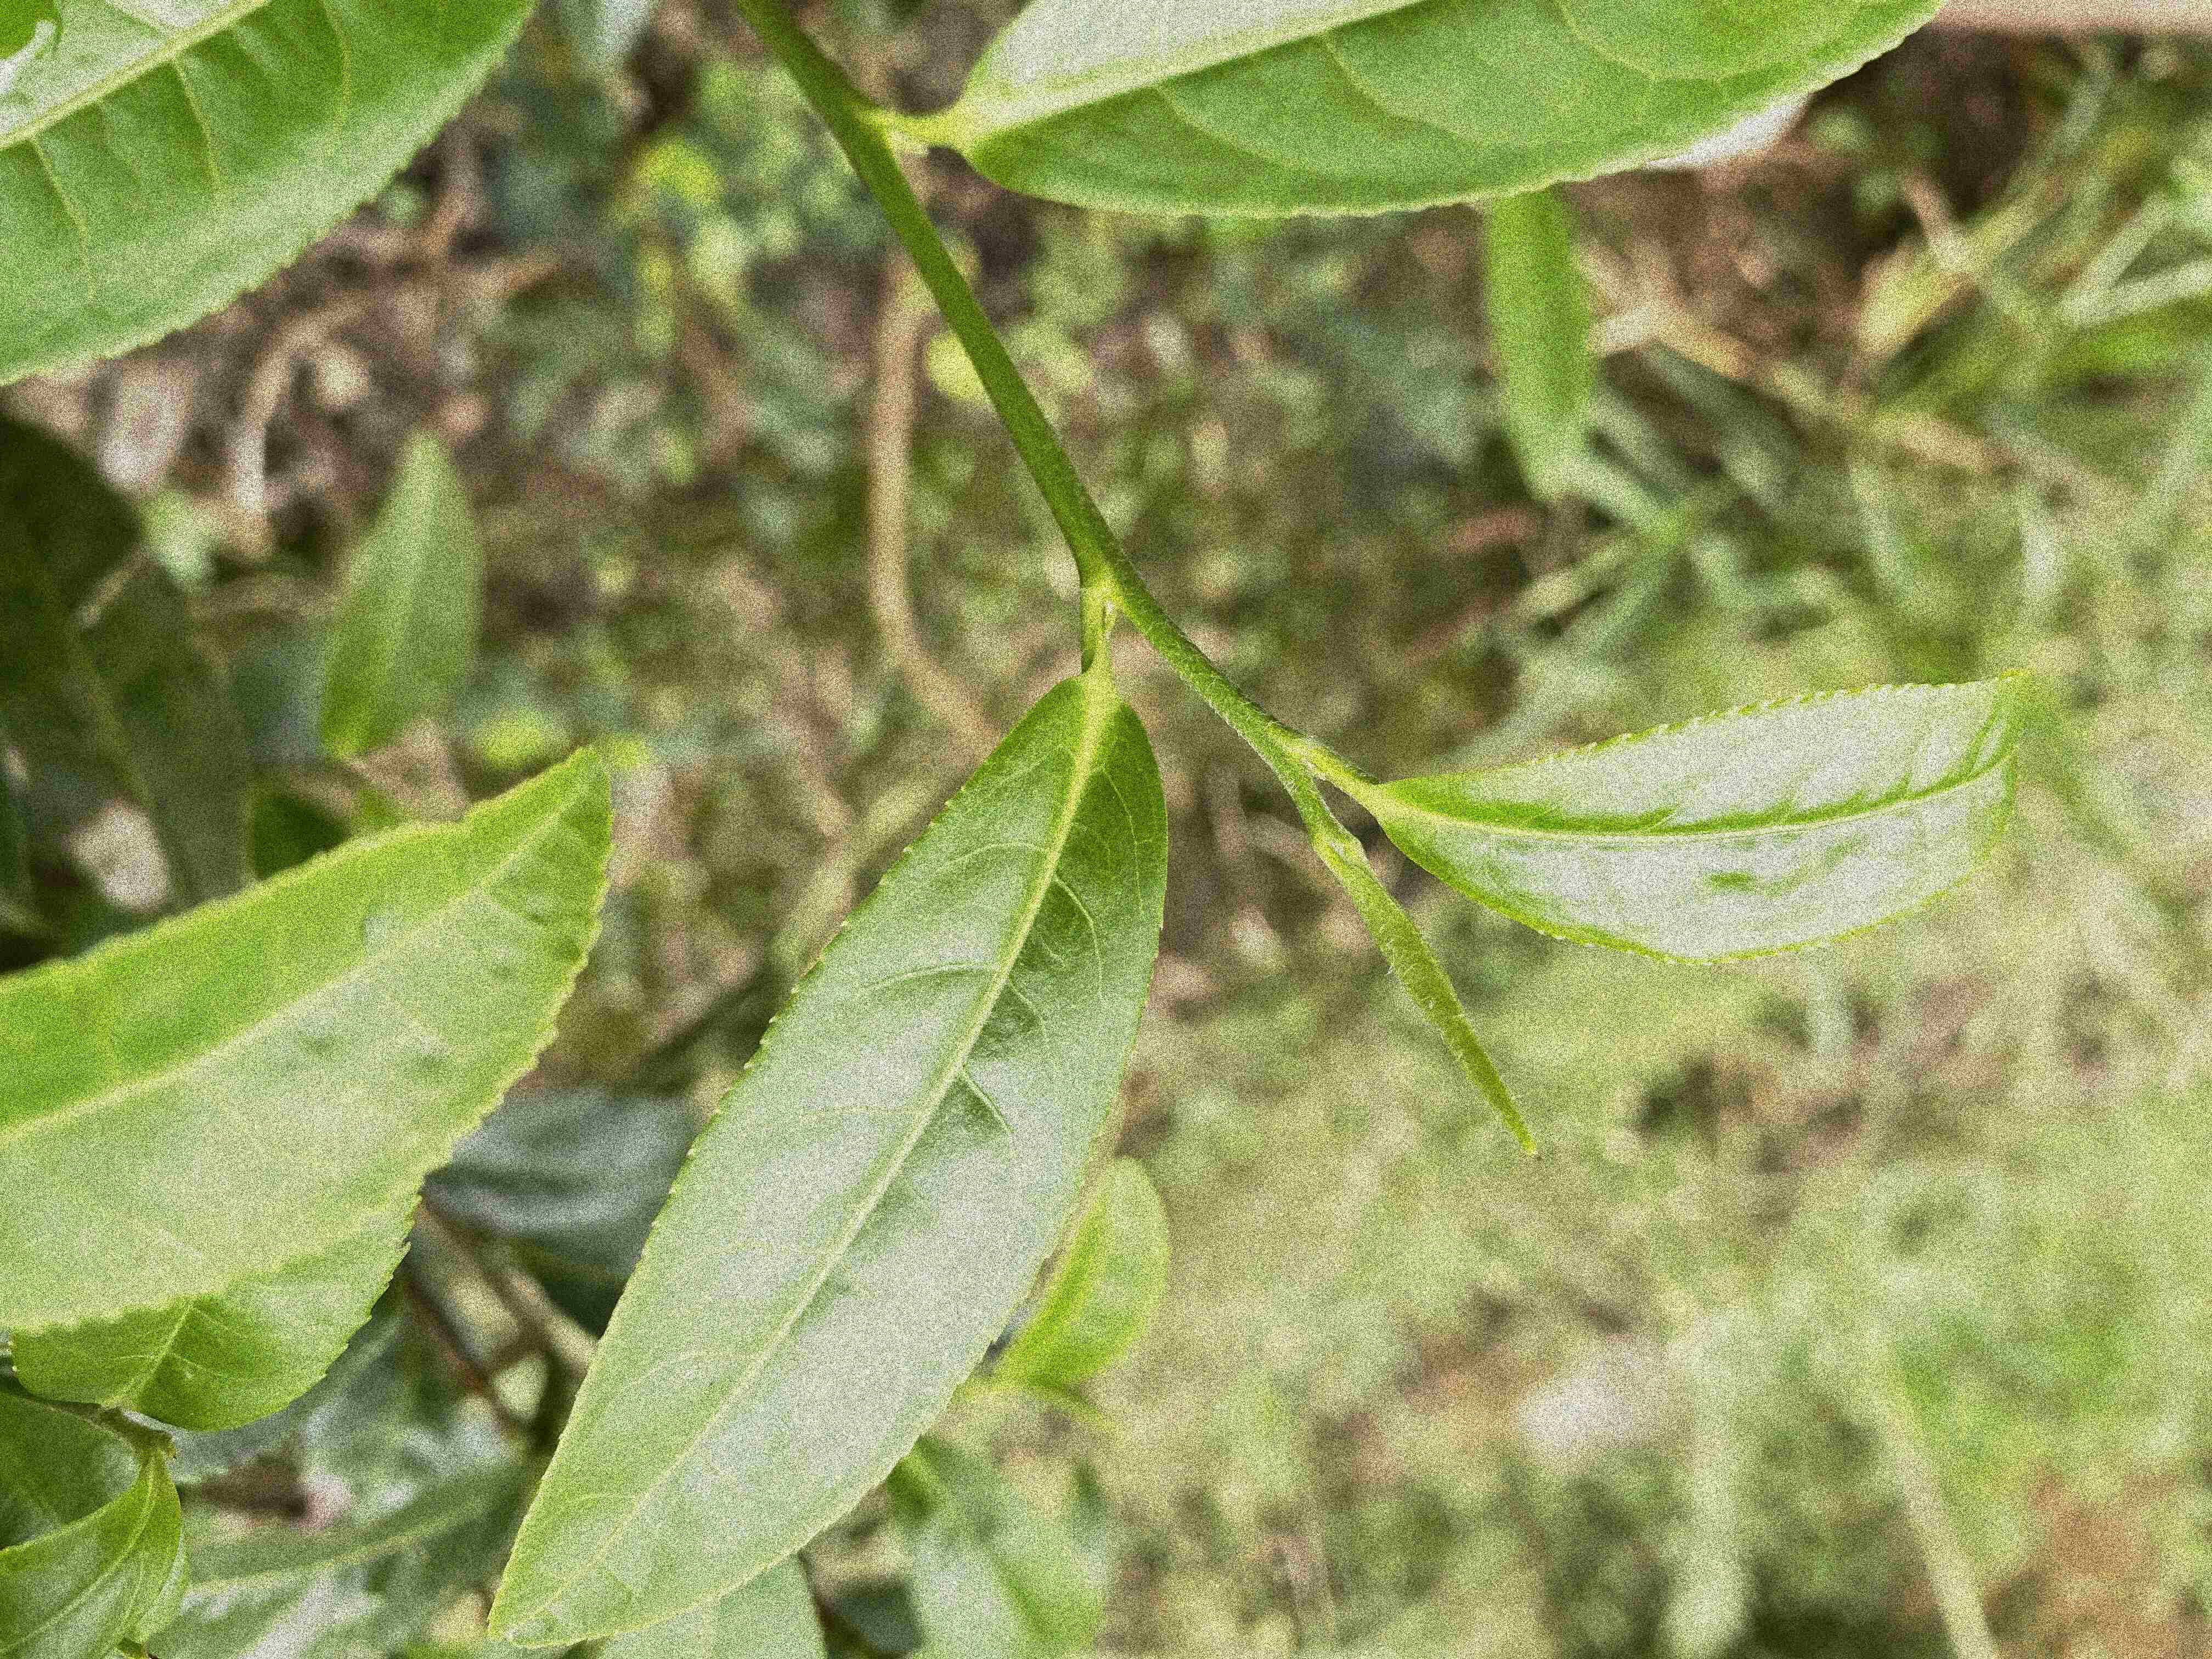healthy: (484, 676, 1172, 1650), (0, 744, 615, 1338), (951, 2, 1951, 221), (1371, 659, 2041, 972)
